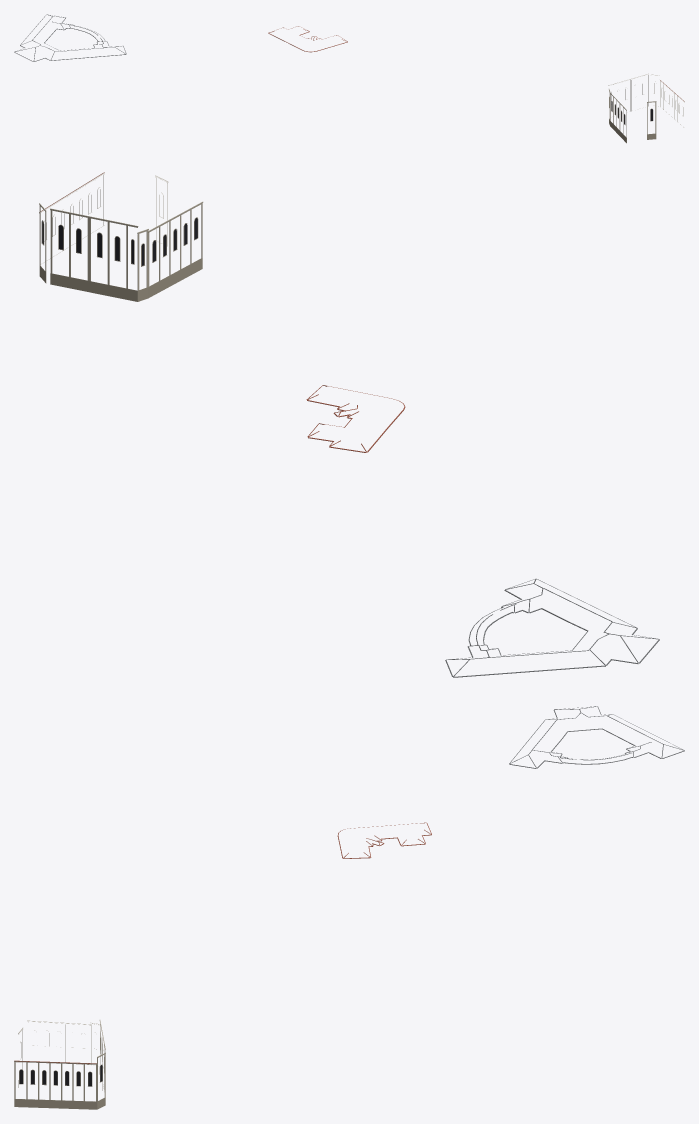
3 views of the same model, one above another, from view 1: azimuth 30°, elevation 25°; view 2: azimuth 150°, elevation 25°; view 3: azimuth 270°, elevation 25° (orthographic). The views are drawn at different scales.
Visible parts, largest first — view 1: detail; view 2: detail; view 3: detail.
Boxes of the visible parts, box(x1,y1,x2,y2) form: detail: box(14, 14, 684, 143); detail: box(39, 172, 659, 677); detail: box(14, 706, 684, 1109).
Bounding box in the file's own units: 355 × 46.65 × 302.
